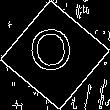O_S: (31, 28, 79, 82)
